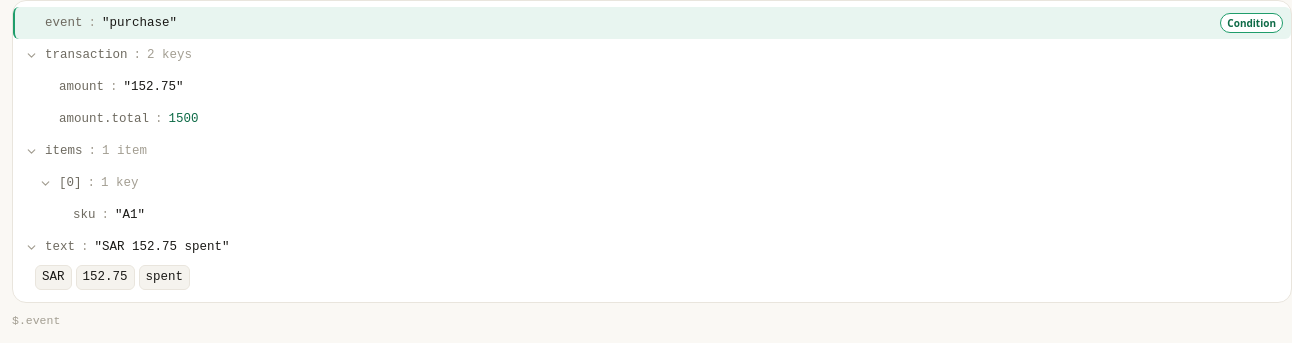
Scenario: PayloadTree › shows the path of the focused node
Hover over the text "\"A1\"".
mouse_move(130, 215)  # box [115,208,145,222]
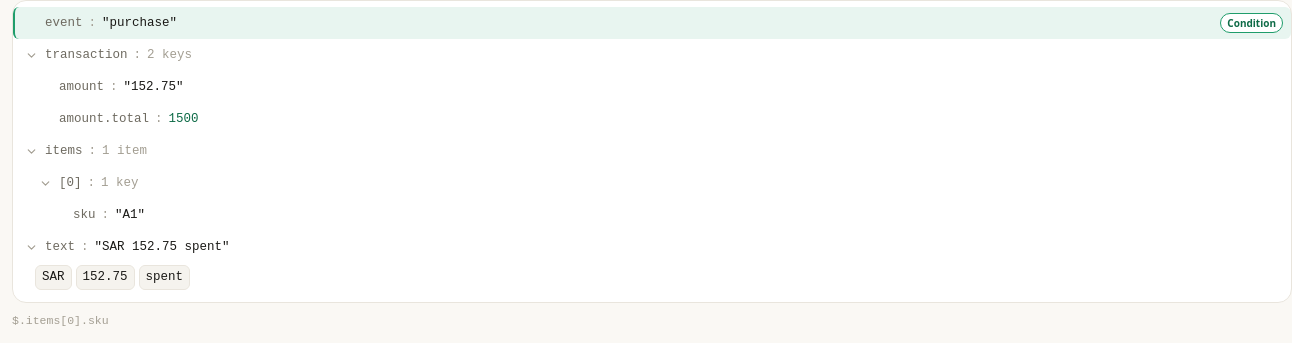
Check: the text "$.items[0].sku" is shown, box [12,314,109,327]
